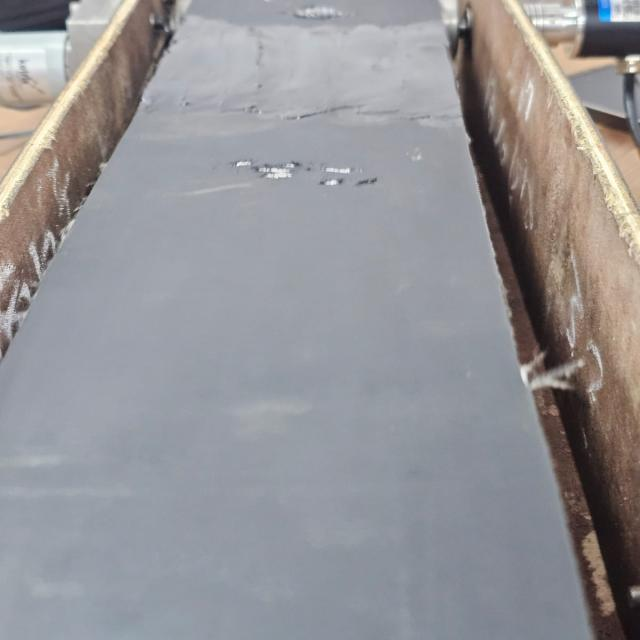Joint_Damage: (172, 17, 444, 119)
crack: (211, 151, 389, 191)
punture: (281, 0, 355, 22)
